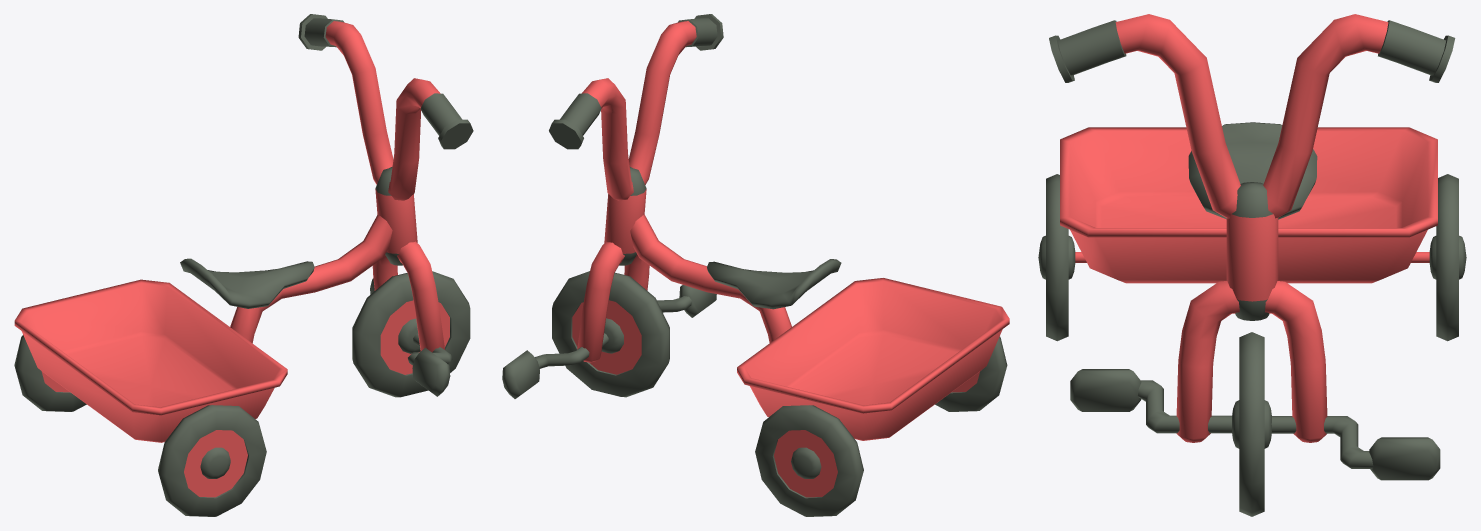
Rendered from SM_Tricycle.FBX.
3 views of the same model, side by side, from view 1: azimuth 30°, elevation 25°; view 2: azimuth 150°, elevation 25°; view 3: azimuth 270°, elevation 25° (orthographic). The views are drawn at different scales.
Parts seen in each view (by area): view 1: Tricycle_main, Tricycle_Handle, Tricycle_Wheel; view 2: Tricycle_main, Tricycle_Handle, Tricycle_Wheel; view 3: Tricycle_main, Tricycle_Handle, Tricycle_Wheel.
Boxes of the visible parts, bbox=[...] form: Tricycle_main: bbox=[14, 214, 392, 516]; Tricycle_Handle: bbox=[298, 14, 473, 352]; Tricycle_Wheel: bbox=[352, 271, 470, 397]; Tricycle_main: bbox=[630, 214, 1009, 516]; Tricycle_Handle: bbox=[549, 14, 723, 362]; Tricycle_Wheel: bbox=[502, 271, 716, 398]; Tricycle_main: bbox=[1038, 122, 1466, 341]; Tricycle_Handle: bbox=[1049, 14, 1455, 442]; Tricycle_Wheel: bbox=[1070, 332, 1440, 516].
Bounding box in the file's own units: 127 × 108 × 87.39.
Materials: 1 (1 with a texture image).
